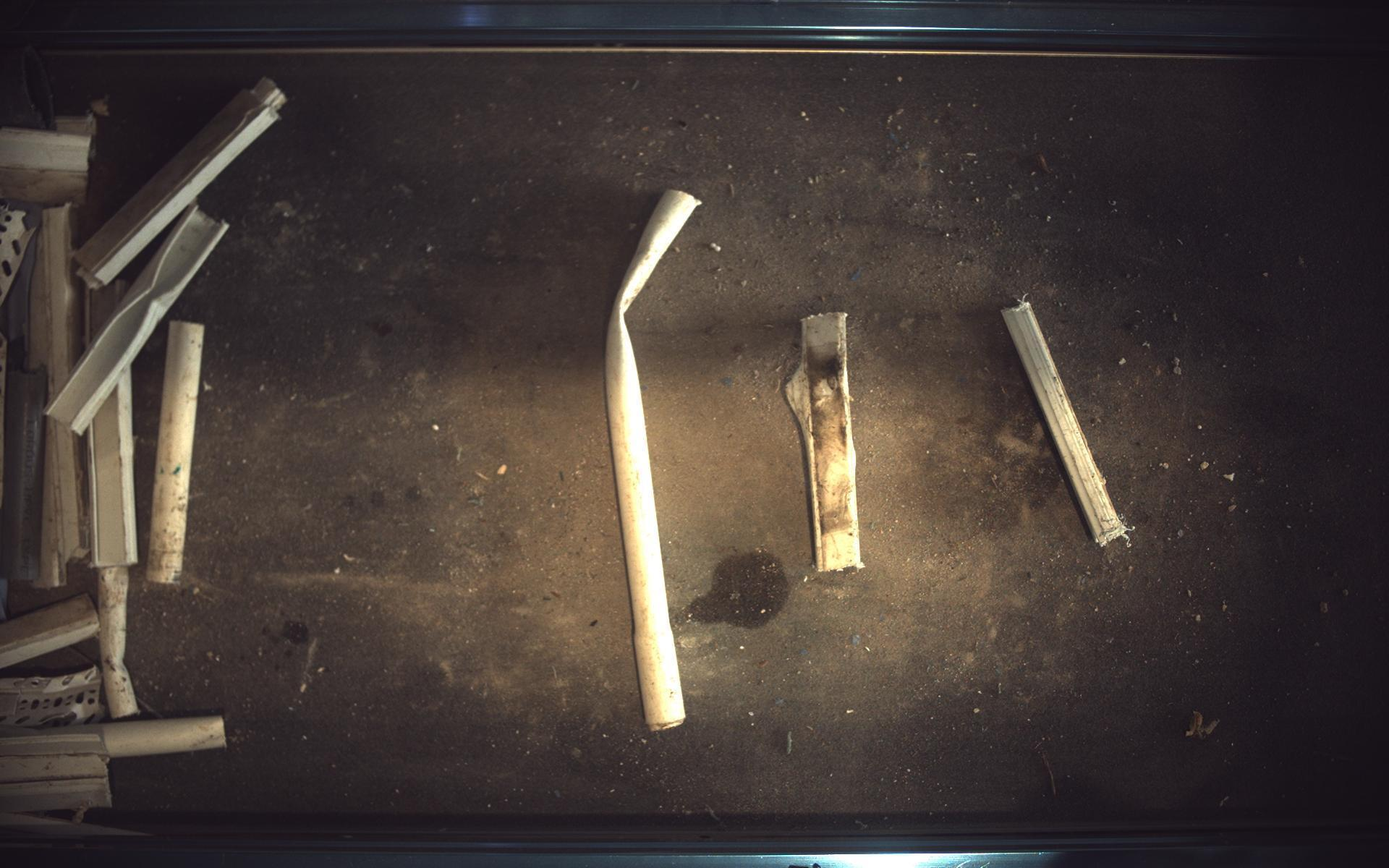pipes: (606, 189, 702, 731), (145, 320, 203, 584), (1, 371, 46, 581), (100, 716, 224, 759)
plastic: (73, 77, 285, 286), (45, 204, 228, 434), (1005, 300, 1131, 546), (786, 312, 865, 572), (86, 367, 137, 569), (27, 203, 79, 399), (35, 420, 85, 588), (1, 117, 93, 205), (2, 594, 97, 669), (96, 566, 137, 720), (1, 666, 101, 729), (1, 777, 111, 814), (1, 726, 108, 757), (1, 205, 34, 304), (1, 204, 33, 304), (1, 755, 106, 785), (1, 333, 5, 480)
